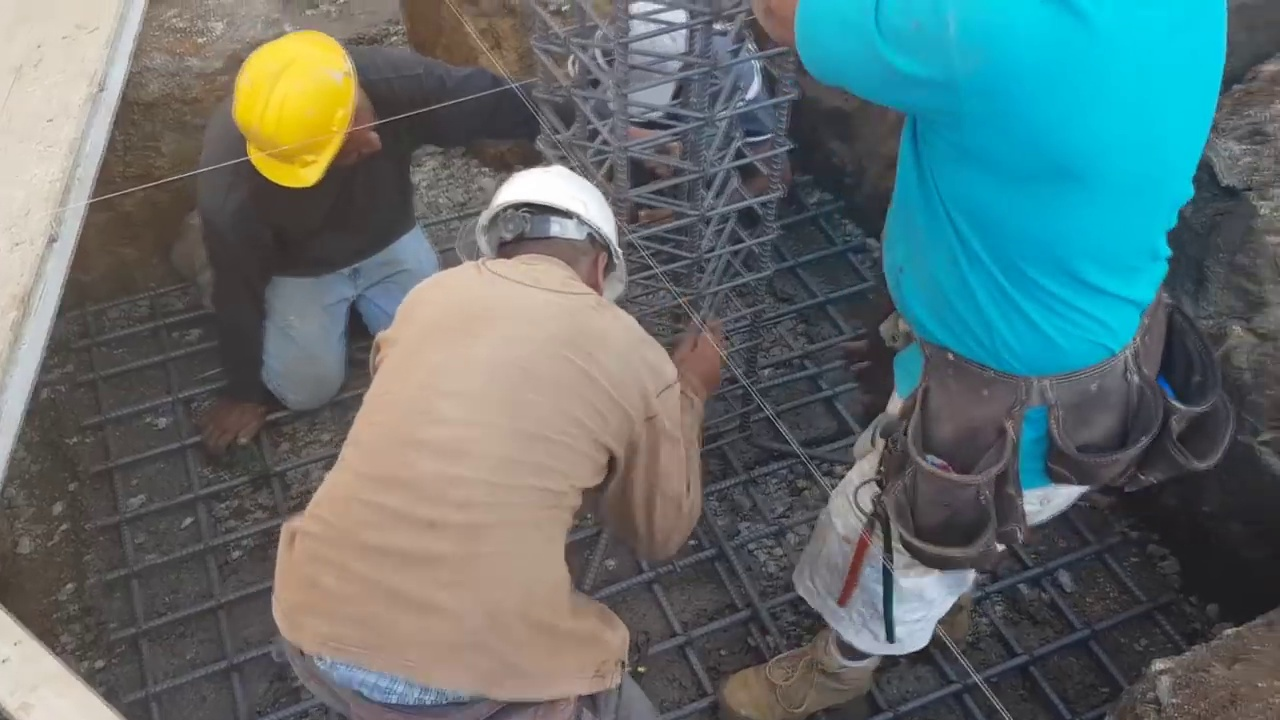helmet: (236, 34, 355, 191)
helmet-on: (229, 29, 398, 200), (465, 149, 634, 318), (466, 162, 621, 296)
person: (726, 0, 1245, 714), (260, 166, 712, 720), (176, 0, 560, 458), (568, 6, 800, 216)
